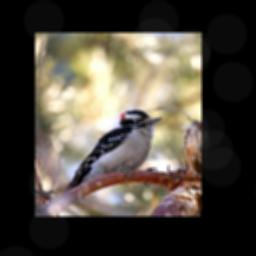Woodpecker: (64, 110, 162, 194)
